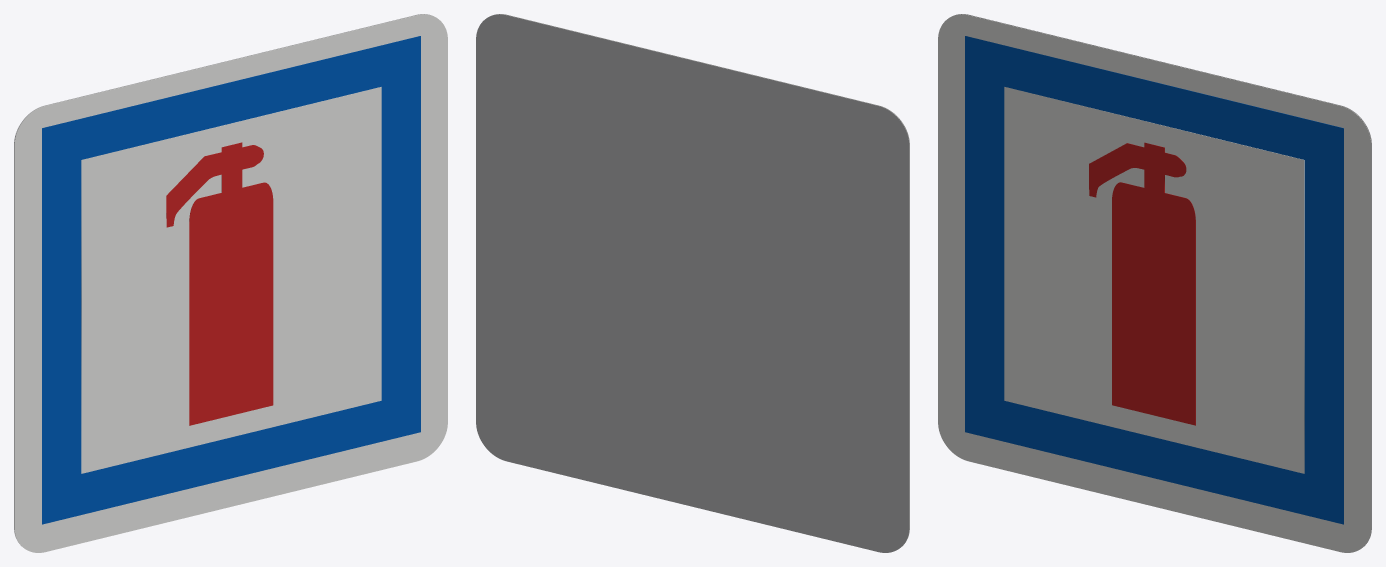
The picture shows the model from 3 angles, left to right: view 1: azimuth 30°, elevation 25°; view 2: azimuth 150°, elevation 25°; view 3: azimuth 330°, elevation 25°; orthographic projection.
Parts seen in each view (by area): view 1: CE29_p02, CE29_p01, CE29_p00, CE29_p03, CE29_dos; view 2: CE29_dos, CE29_p00; view 3: CE29_p02, CE29_p01, CE29_p00, CE29_p03, CE29_dos.
Part boxes in pixels (x1,y1,x2,y2): CE29_p02: (81, 87, 381, 473); CE29_p01: (42, 36, 420, 524); CE29_p00: (14, 14, 447, 552); CE29_p03: (166, 142, 273, 425); CE29_dos: (14, 14, 430, 546); CE29_dos: (476, 14, 909, 552); CE29_p00: (493, 14, 909, 546); CE29_p02: (1004, 87, 1304, 473); CE29_p01: (965, 36, 1343, 524); CE29_p00: (938, 14, 1371, 552); CE29_p03: (1089, 142, 1195, 425); CE29_dos: (955, 14, 1371, 546).
Size of the model in its own units: 0.7 by 0.6889 by 0.0031.
